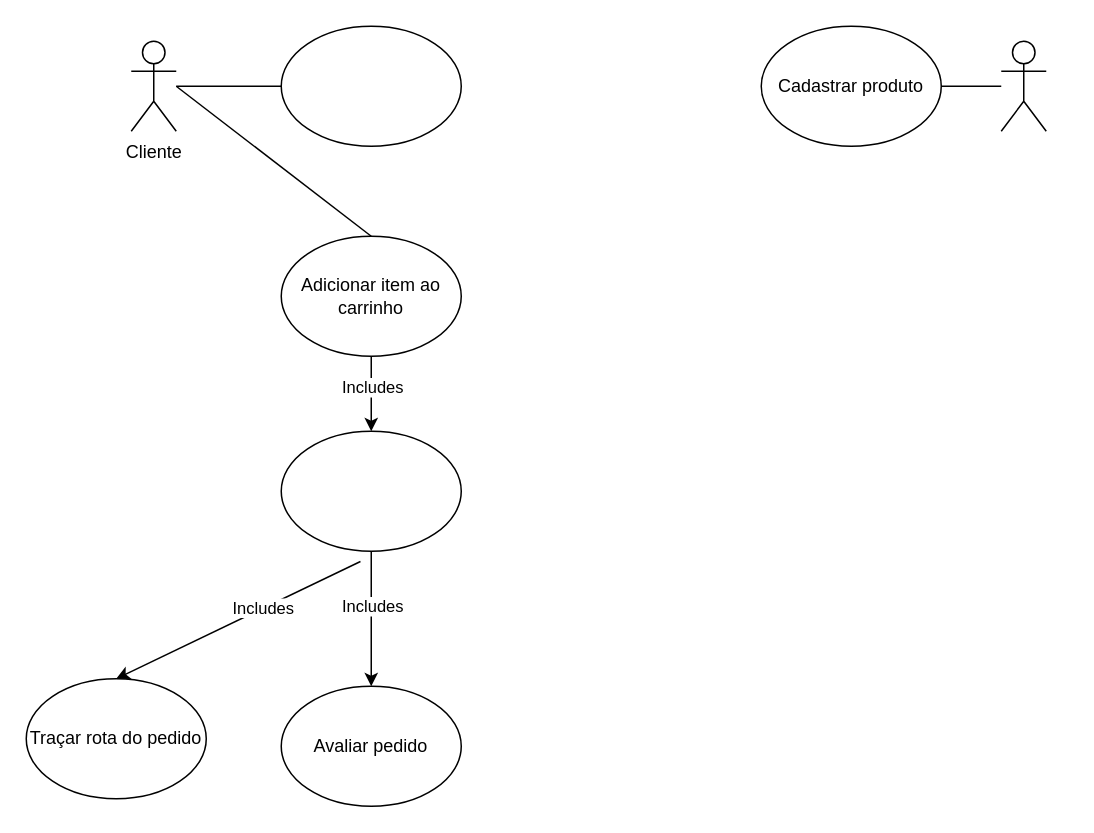
Some shapes in this 1094 by 833 pixel diagram are drawn without their labels. Each missing label, with the centre of its shape:
"Login" goes at (x=370, y=85).
"Retaurante" goes at (x=1023, y=85).
"Visualizar Pedido" goes at (x=370, y=490).
